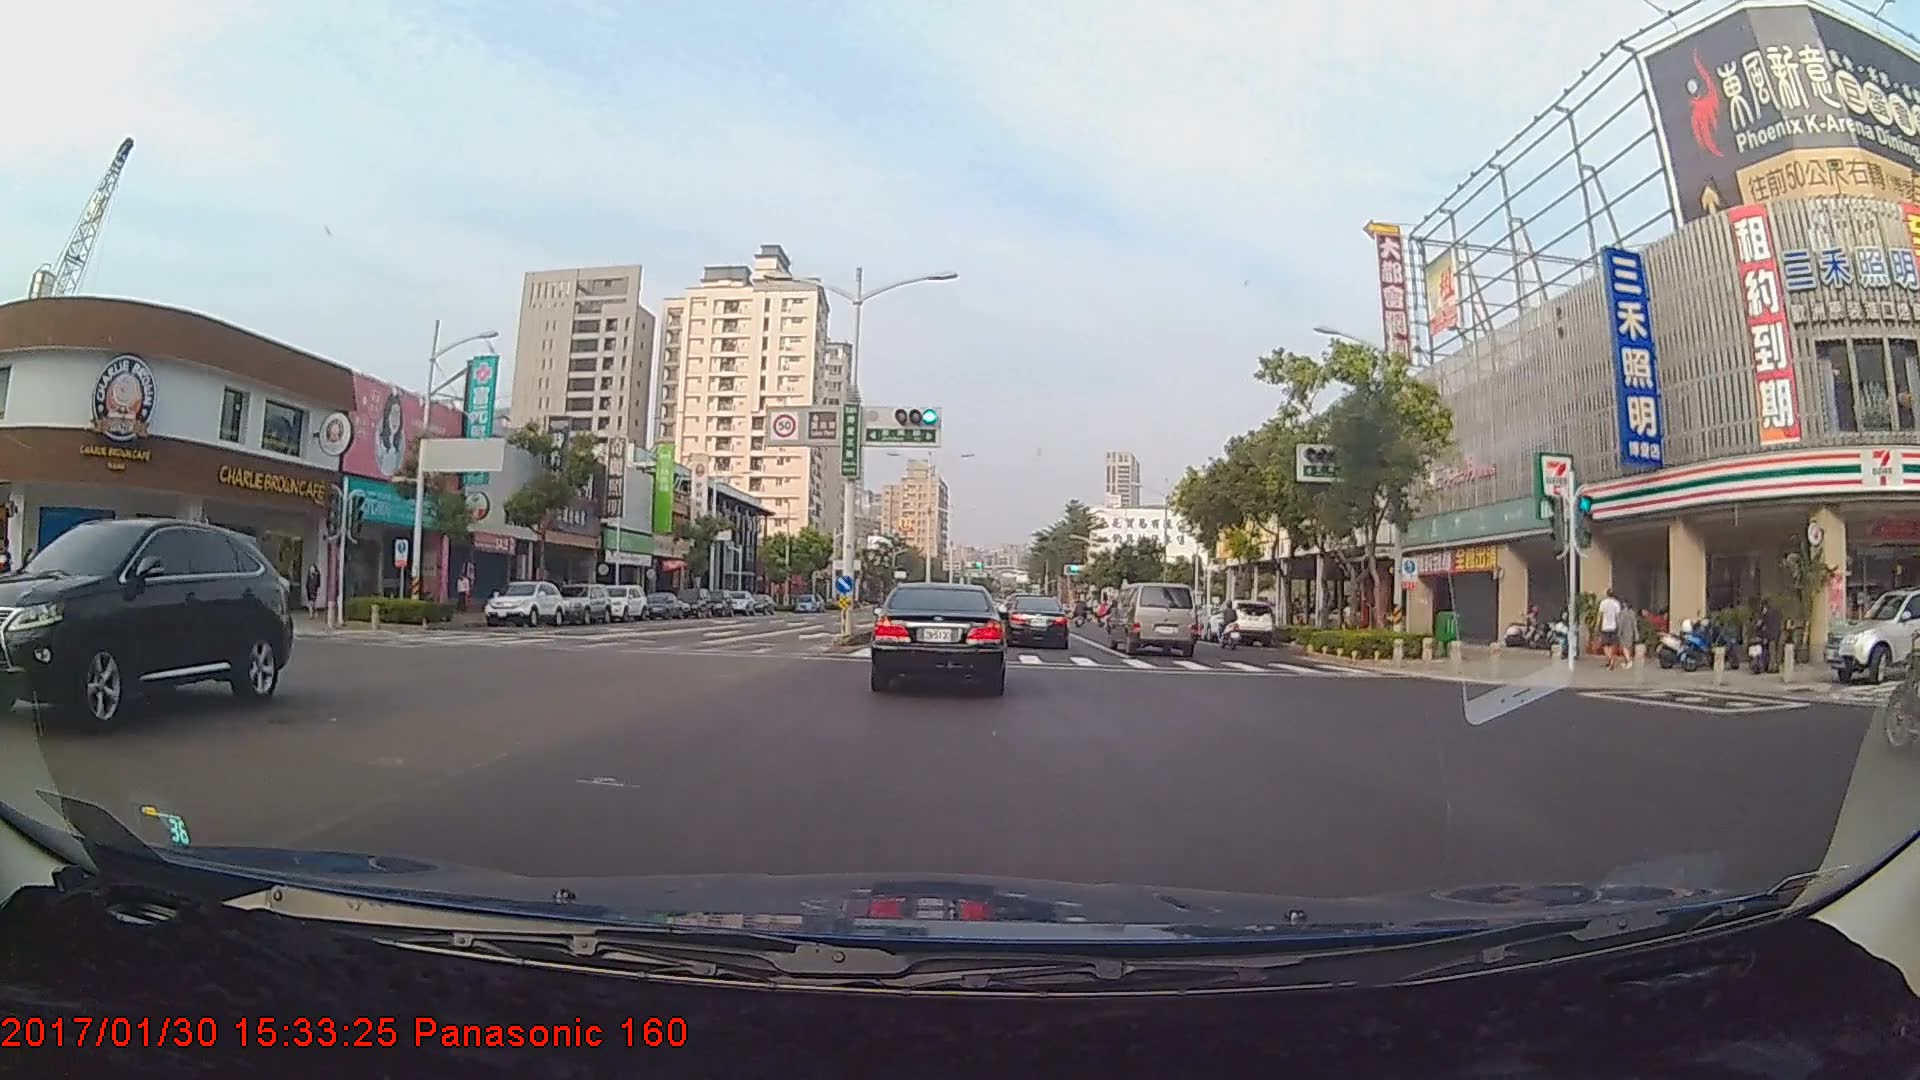pedestrian: (1593, 586, 1621, 672), (1617, 597, 1642, 673), (305, 562, 325, 621), (454, 572, 475, 617)
rider: (1211, 596, 1245, 648)
vehicle: (0, 517, 294, 732), (871, 581, 1004, 695), (1822, 584, 1920, 684), (1110, 582, 1197, 657), (480, 576, 567, 624), (998, 595, 1070, 652), (1210, 597, 1275, 646), (552, 581, 610, 623), (595, 584, 650, 624), (642, 591, 683, 620)
